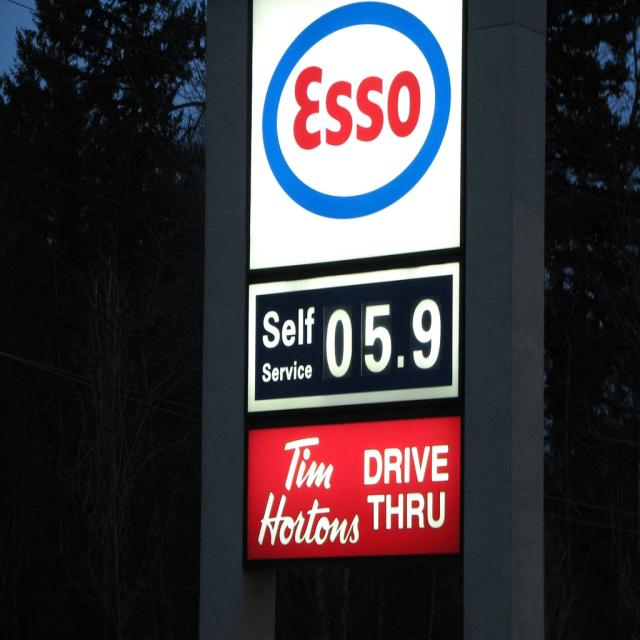esso: (259, 2, 458, 228)
